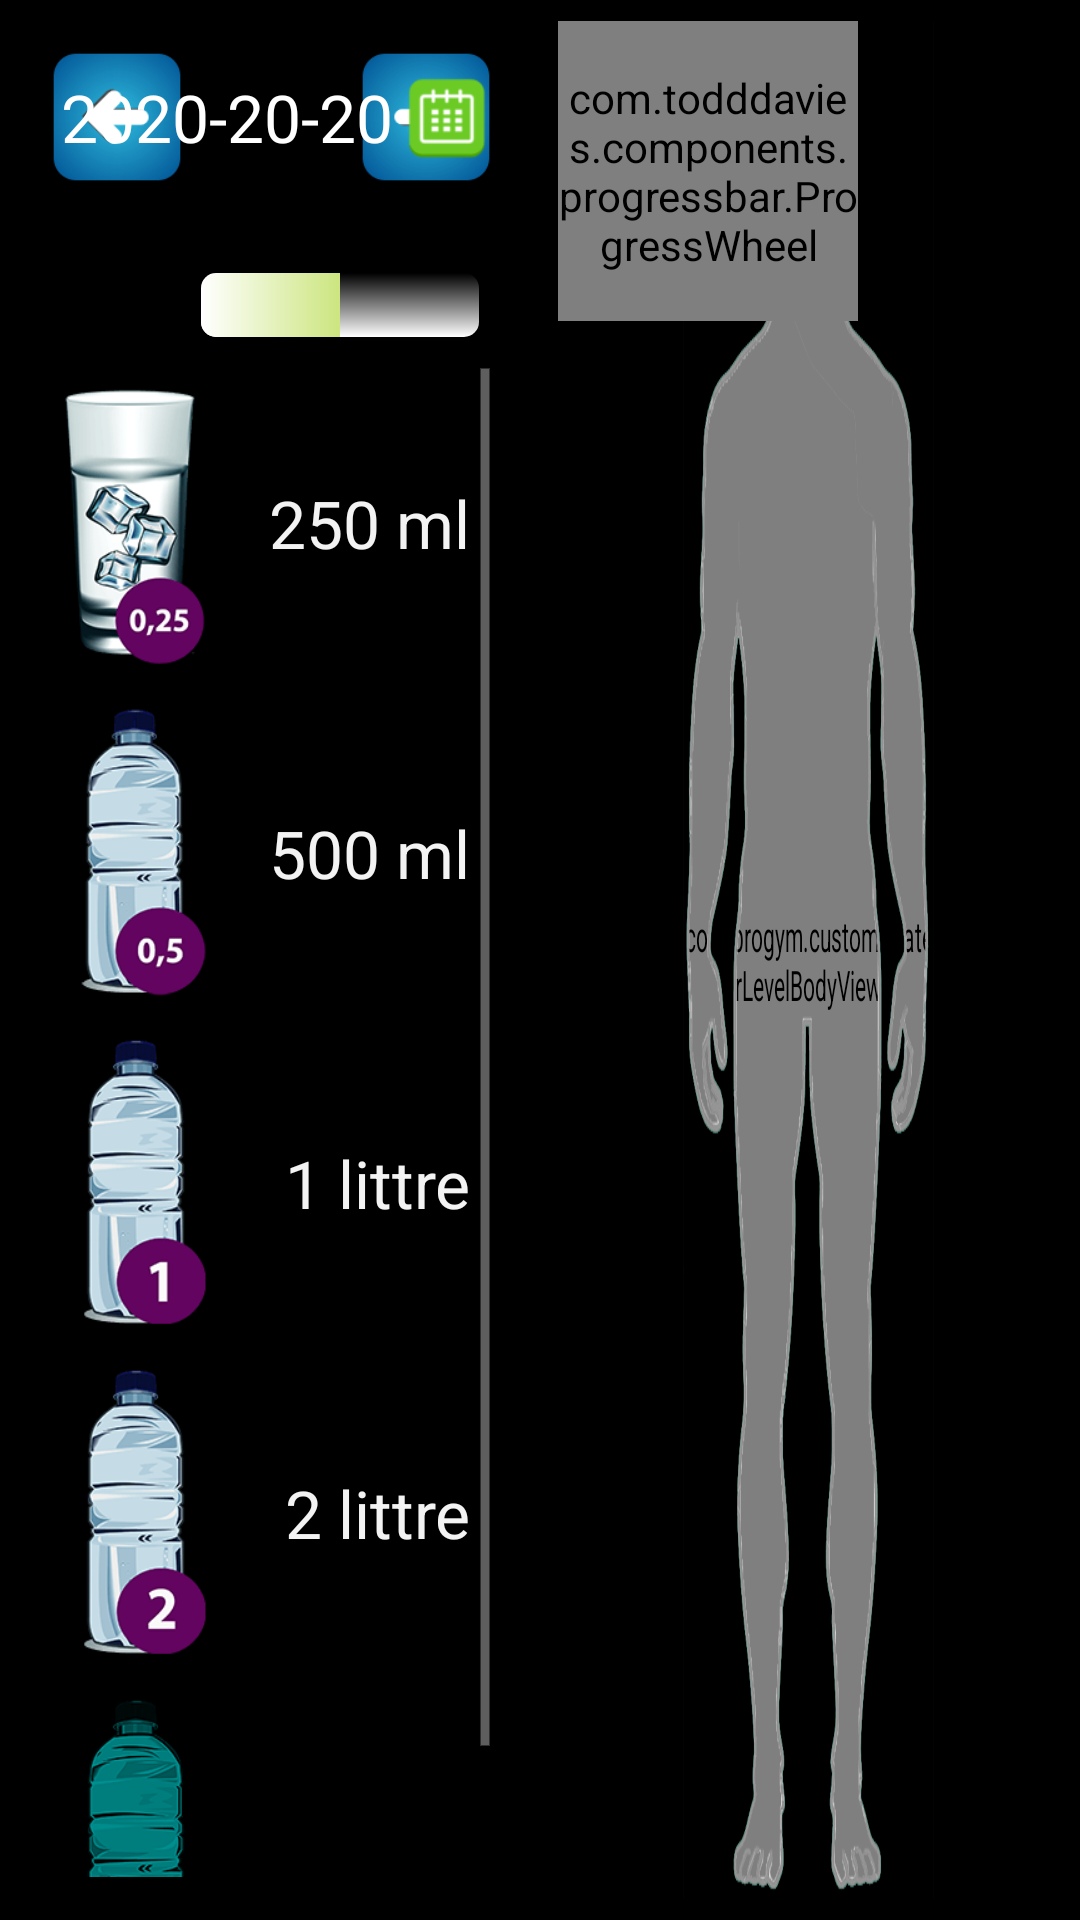

Locate icon controls on the screen. Image size 1080x1920, boxes as (x1, y1, x2, y2).
bottle: (81, 709, 206, 995), (84, 1040, 206, 1324), (84, 1370, 206, 1654)
glass: (65, 390, 204, 664)
